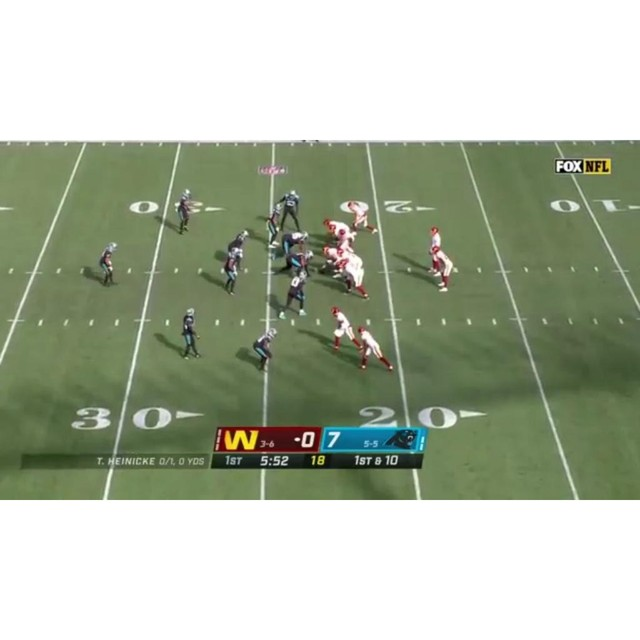american-football-player: (357, 326, 393, 372), (330, 306, 361, 352), (280, 269, 309, 318), (336, 259, 369, 300), (343, 200, 379, 236), (429, 245, 456, 292), (220, 248, 245, 297), (253, 327, 278, 372), (275, 190, 302, 231), (180, 309, 201, 361), (276, 231, 310, 260), (98, 241, 119, 287), (265, 204, 284, 252), (175, 189, 194, 235), (323, 218, 355, 245), (226, 230, 251, 257)
